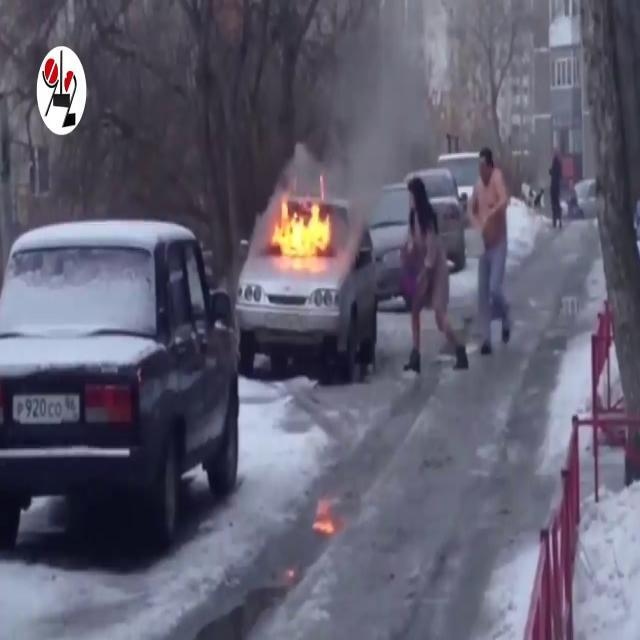Fire: (264, 188, 338, 272)
Smoke: (305, 1, 447, 222)
